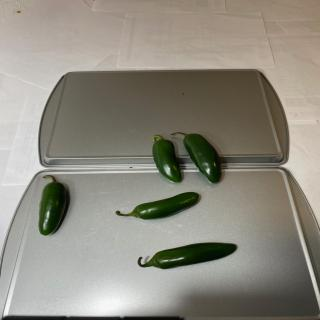Chilli: (115, 192, 201, 220)
Tomato: (137, 242, 238, 269), (170, 132, 222, 184), (38, 175, 67, 236), (152, 135, 182, 183)
